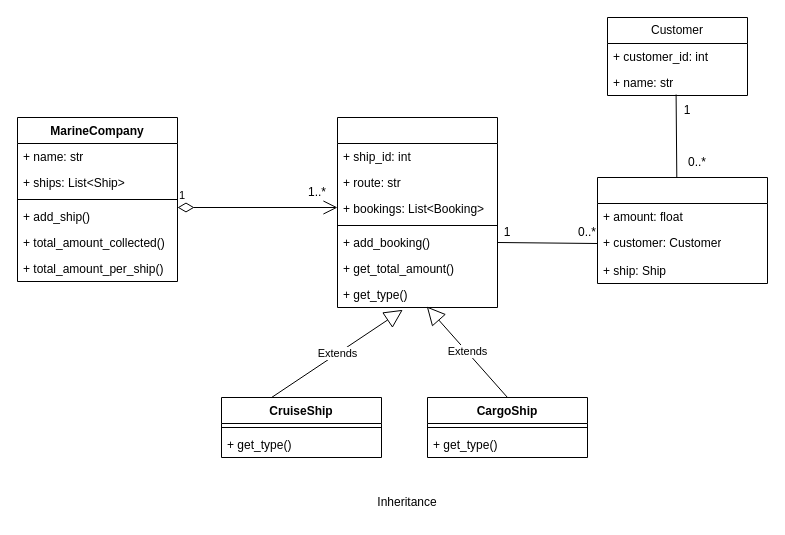
The diagram is 785 pixels wide and 535 high, and some of its shapes have lost their labels. The box of each missing label's shape, as (x1, y1, x2, y2) in pixels:
Booking: (596, 176, 768, 284)
Ship<<abstract>>: (336, 116, 498, 308)
